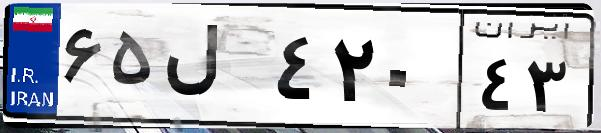0: (385, 28, 445, 110)
2: (330, 28, 385, 110)
3: (525, 38, 570, 115)
4: (270, 28, 330, 110), (475, 38, 525, 113)
5: (110, 28, 158, 98)
6: (57, 26, 110, 100)
ل: (158, 20, 270, 120)
